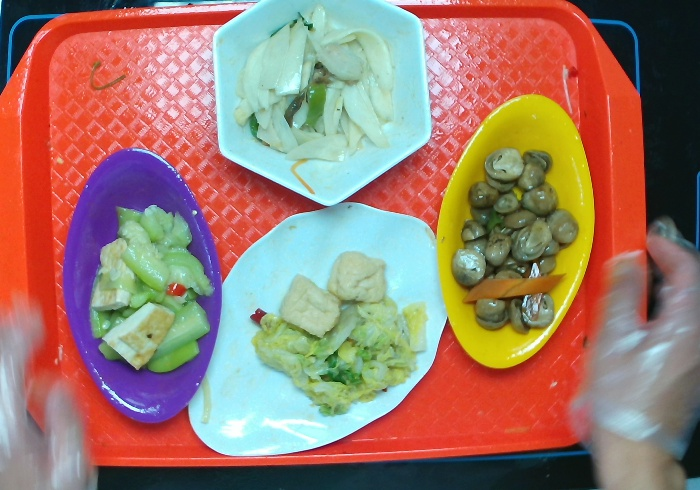RJxy-Bai_Ye_Pan: (178, 197, 449, 456)
RJxy-Fen_Hong_Tuo_Yuan: (58, 150, 228, 424)
RJxy-Huang_Se_Tuo_Yuan: (437, 94, 605, 378)
RJxy-Liu_Jiao_Wan: (206, 6, 436, 204)
